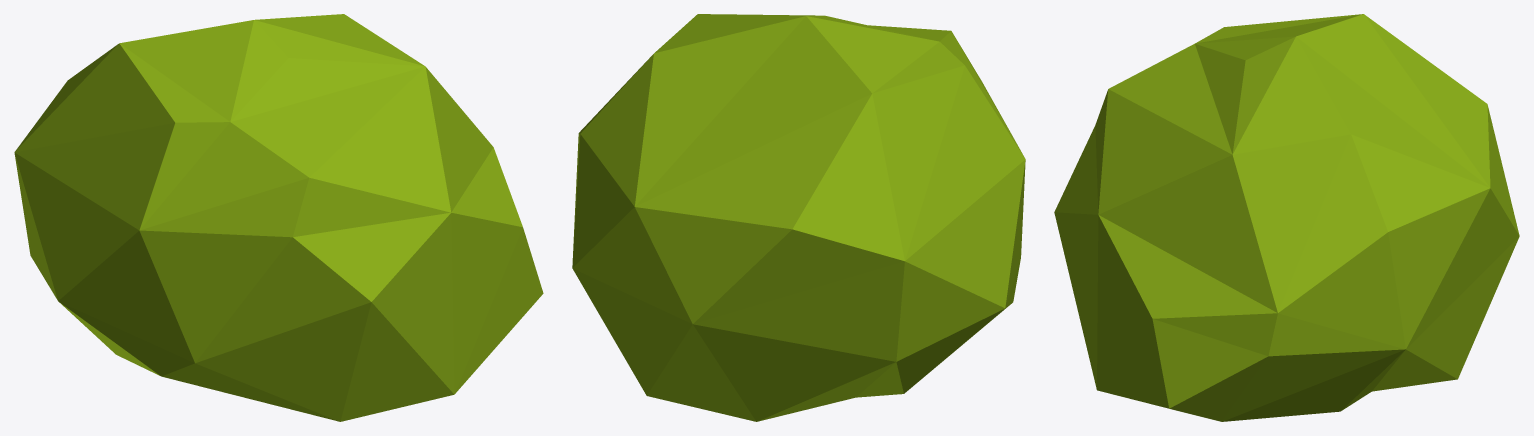
Rendered from bush_01.FBX.
3 views of the same model, side by side, from view 1: azimuth 30°, elevation 25°; view 2: azimuth 150°, elevation 25°; view 3: azimuth 270°, elevation 25° (orthographic). The views are drawn at different scales.
Parts seen in each view (by area): view 1: bush_02; view 2: bush_02; view 3: bush_02.
Boxes of the visible parts, box(x1,y1,x2,y2) form: bush_02: box(14, 14, 543, 421); bush_02: box(572, 14, 1025, 421); bush_02: box(1054, 14, 1519, 421).
Bounding box in the file's own units: 23.27 × 16.84 × 22.77.
1 material, 1 textured.
